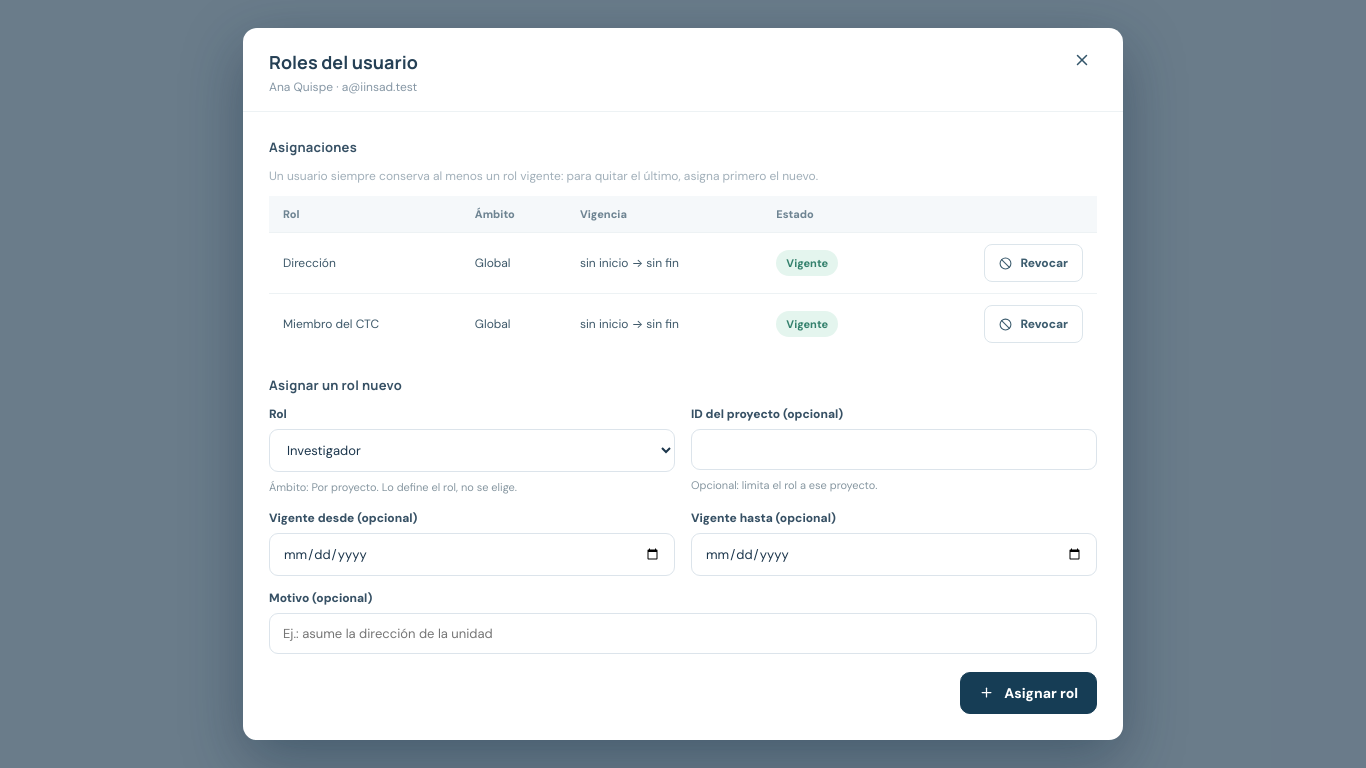
Test: UserRolesModal › exige el motivo antes de llamar al servidor
The image size is (1366, 768).
What coordinates should you click on to do the following:
click the button "Revocar" in the row of "Dirección"
I would click on:
 (1034, 263)
Its box is top-left (984, 244), bottom-right (1083, 282).
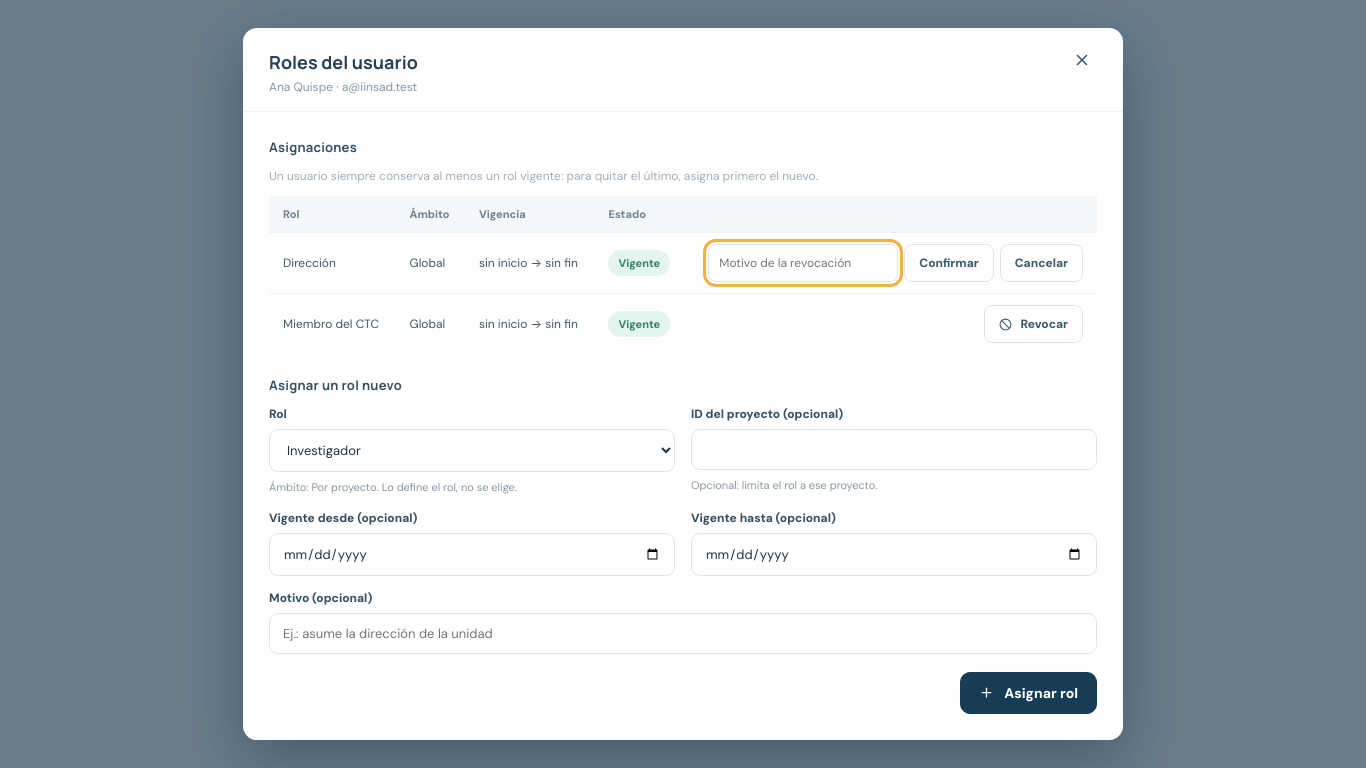
What coordinates should you click on to do the following:
click the button "Confirmar"
I would click on:
 (949, 263)
Its box is top-left (904, 244), bottom-right (994, 282).
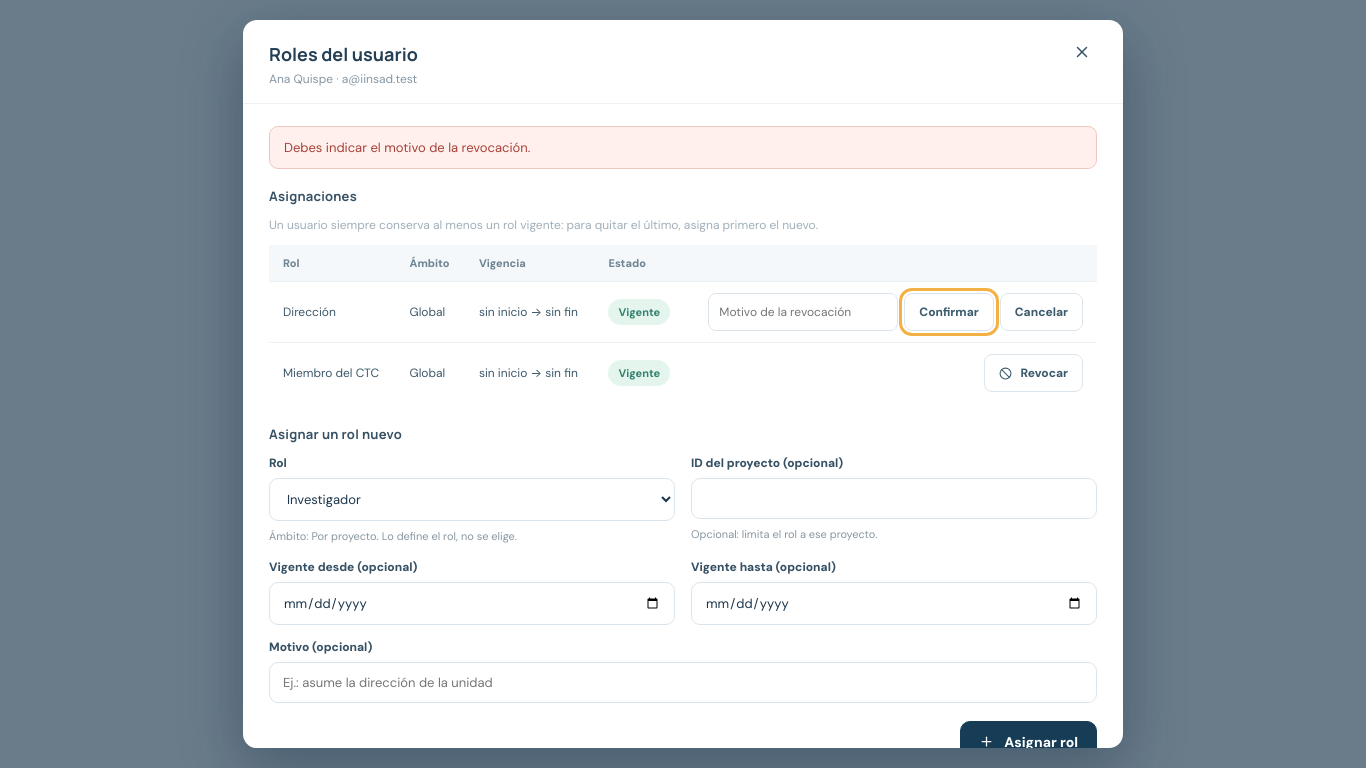
Expected: the text "Debes indicar el motivo de la revocación." is shown, top-left (269, 126), bottom-right (1097, 169)
